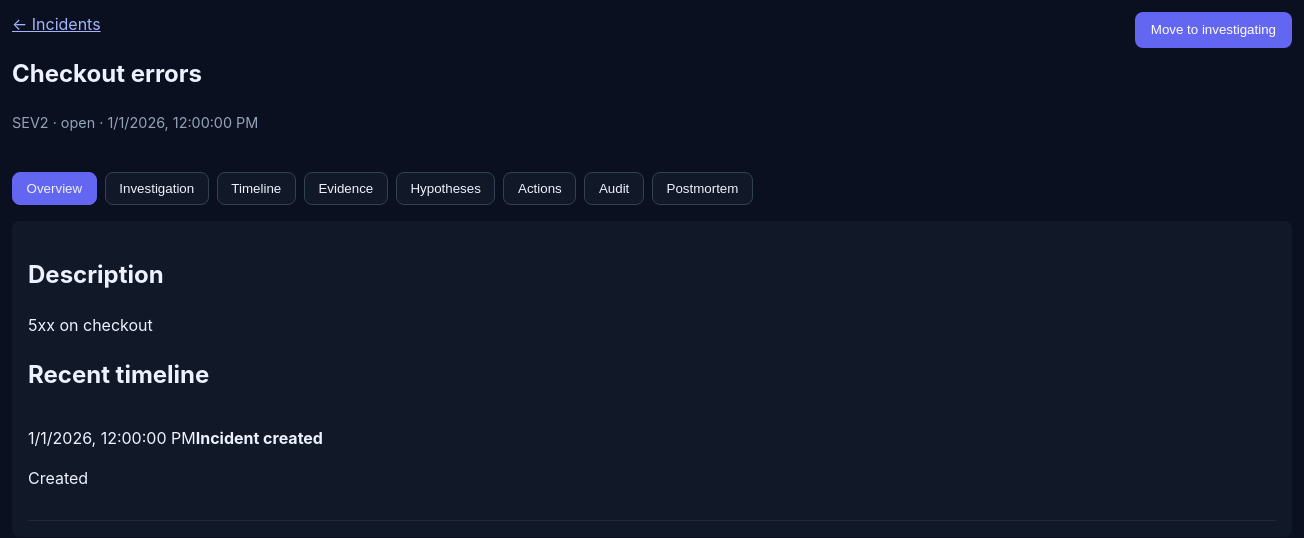
Test: IncidentDetail tabs › renders evidence tab content
Expected: the heading "Checkout errors" is shown, [12,59,202,88]
Click the button "Evidence" at (346, 188), box [304,172,388,205]
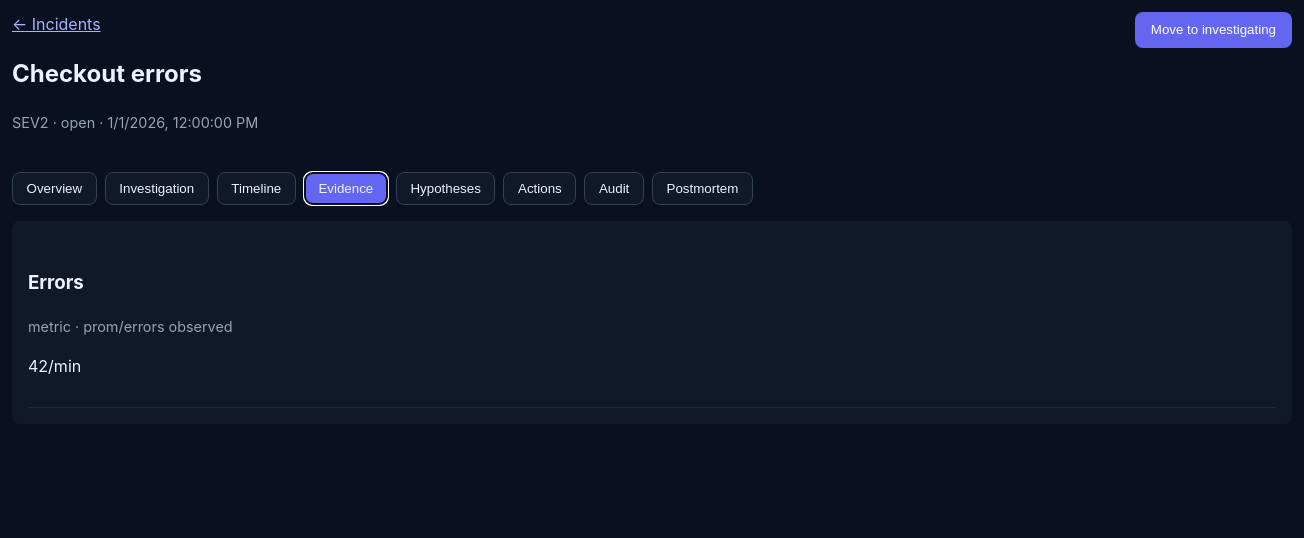
Result: the heading "Errors" is shown at [28,271,84,294]
